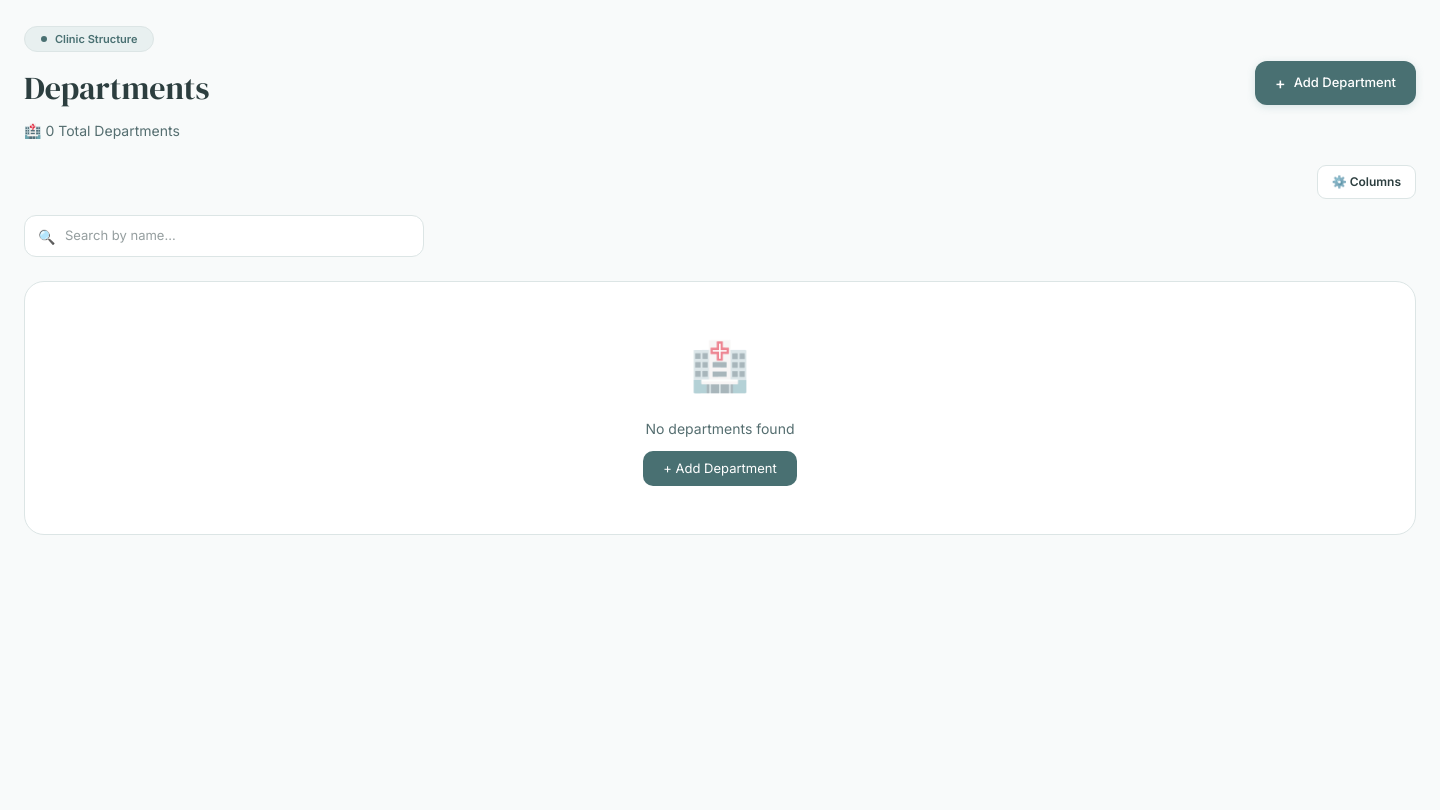
Test: Departments › requires a name before saving a new department
The width and height of the screenshot is (1440, 810).
expect the text "No departments found" is shown: met, box [646, 420, 794, 437]
Click the 1st button "+ Add Department": (1336, 83) [1255, 61, 1416, 105]
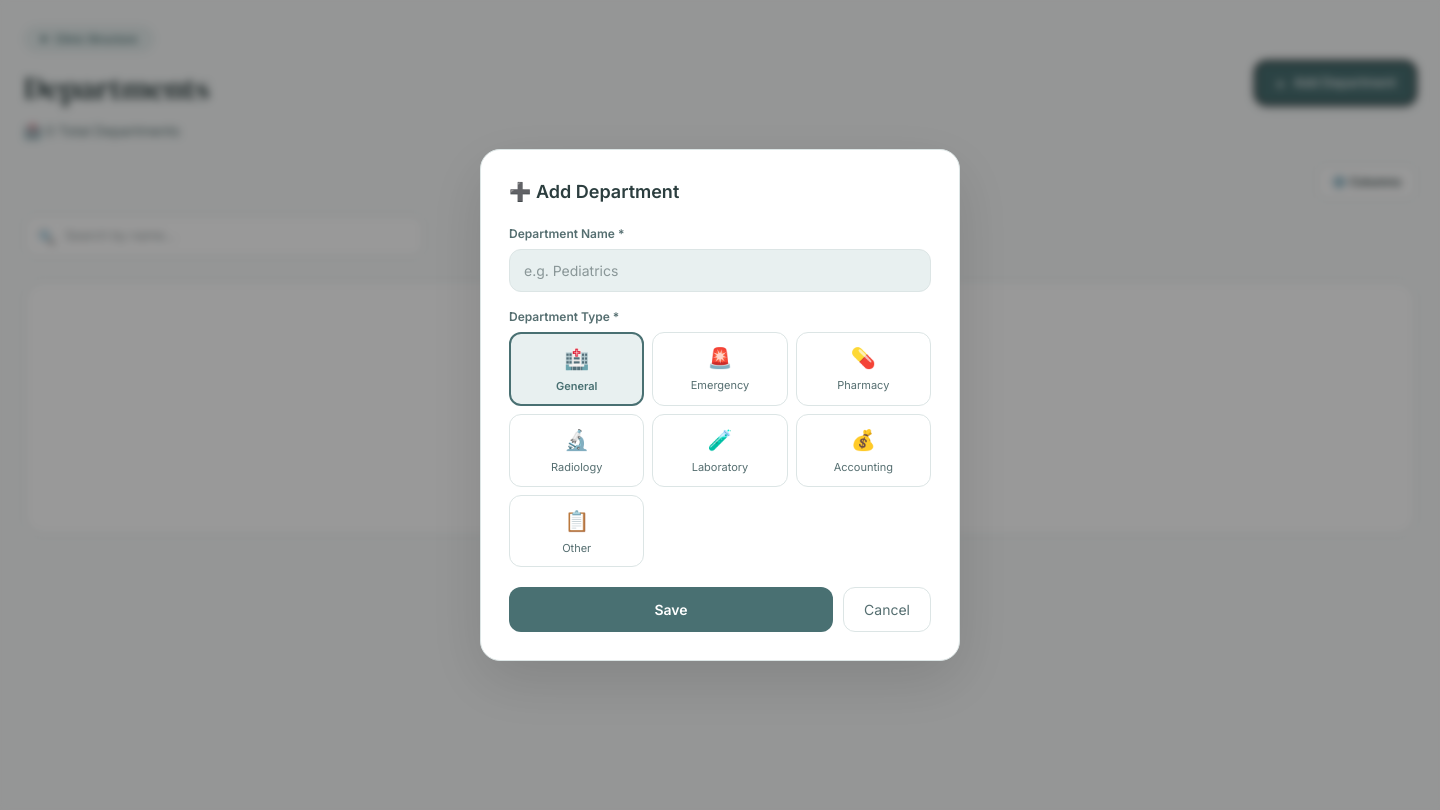
Click the button "Save": (671, 610) [509, 587, 833, 632]
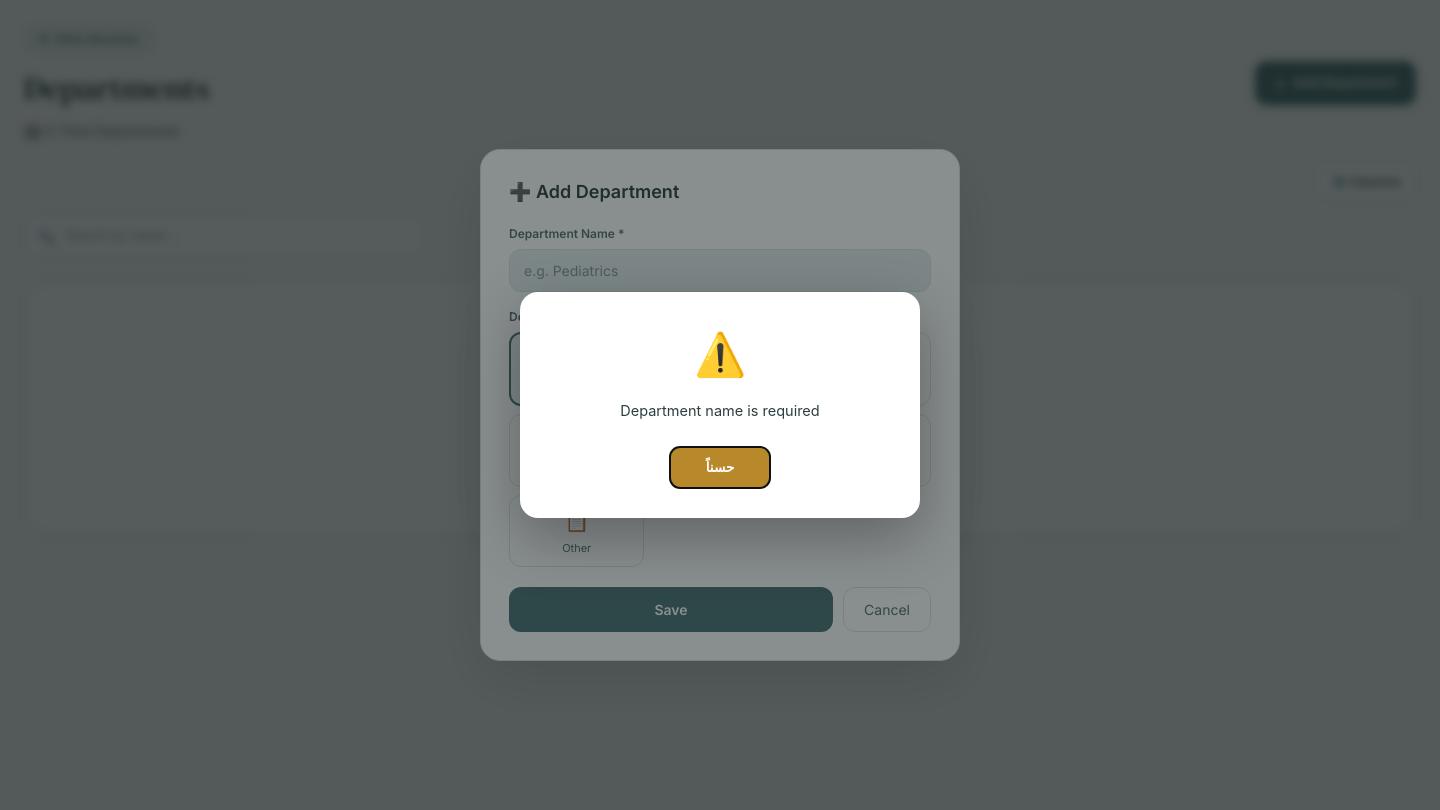
expect the text "Department name is required" is shown: met, box [620, 402, 820, 419]
